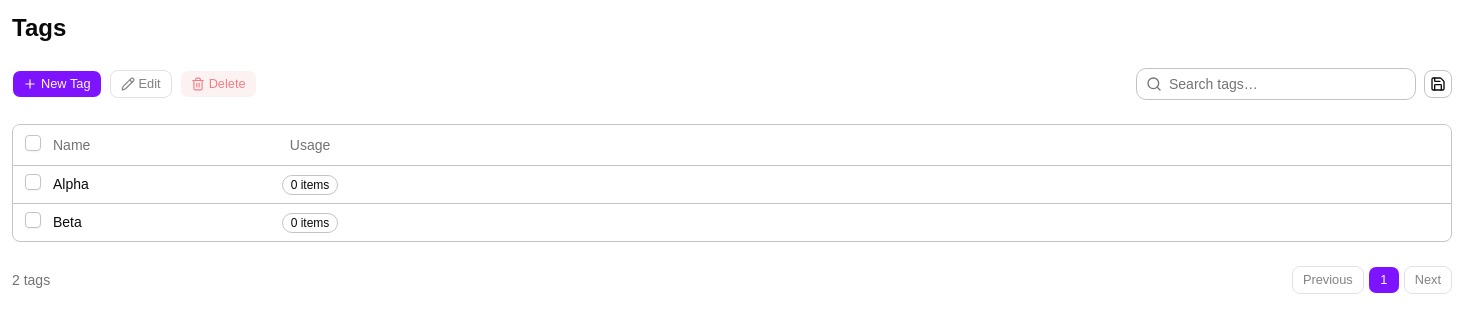
it: TagsPage › right-click menu mirrors the toolbar: Edit is disabled for a multi-selection
expect the text "Alpha" is shown: met, box [45,165,245,203]
Press the mouse on the text "Alpha": (732, 184) [13,165,1451,203]
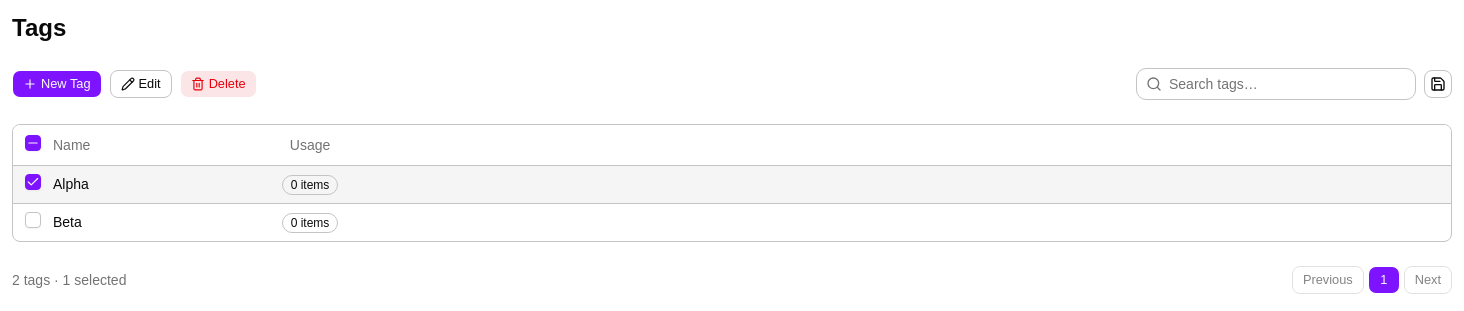
Press the mouse on the text "Beta": (310, 222) [13,203,1451,240]
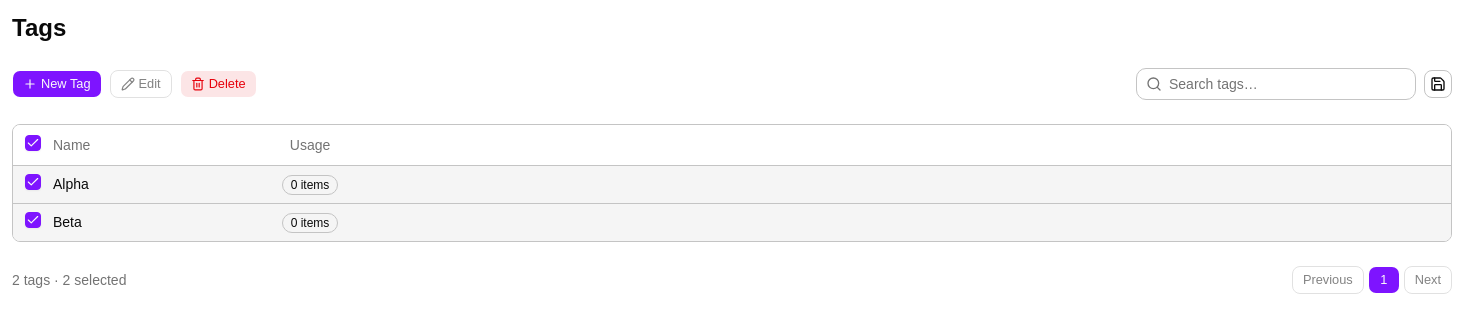
Right-click the text "Alpha": (732, 184) [13,165,1451,203]
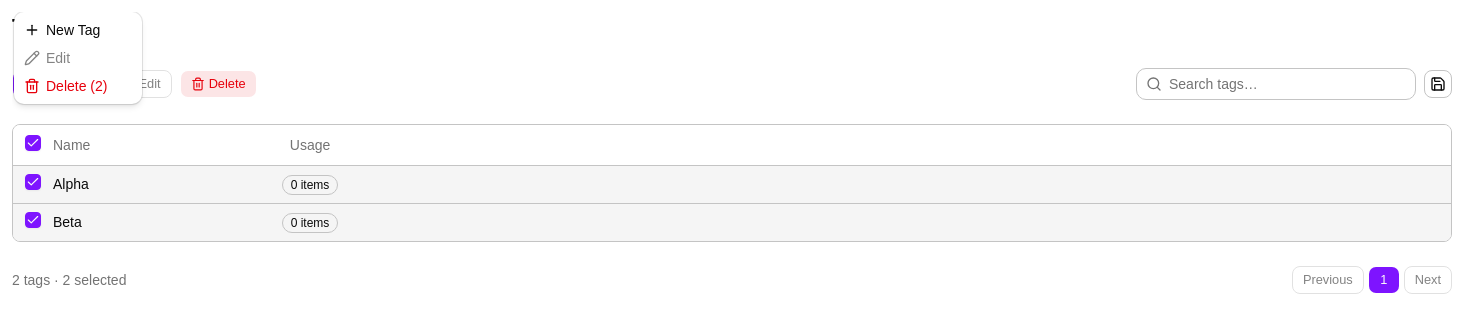
expect the menu item "Delete (2)" is shown: met, box [24,78,108,94]
